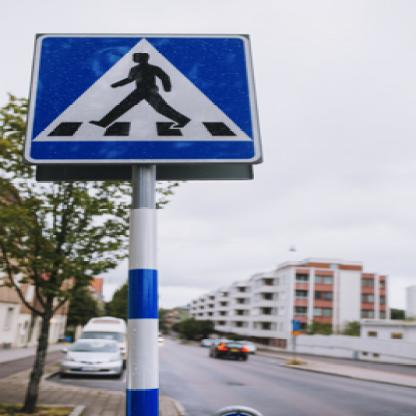crosswalk: (22, 26, 260, 162)
